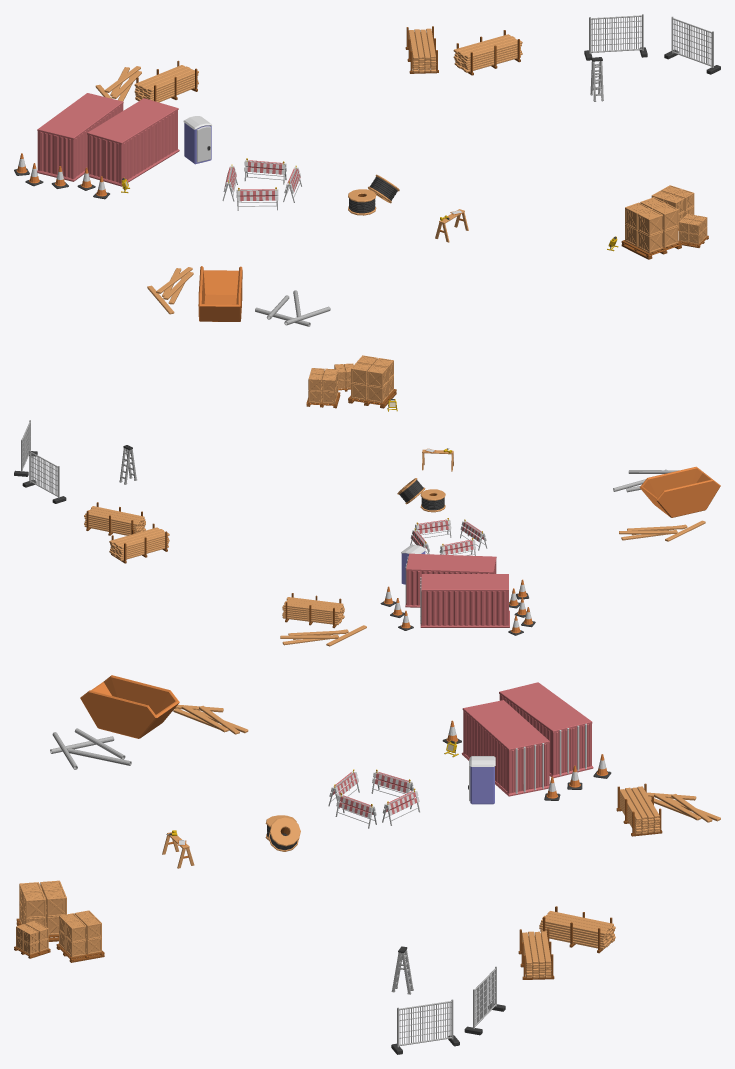
File: Assets.glb
3 renders of one model, top to bottom at view 1: azimuth 30°, elevation 25°; view 2: azimuth 150°, elevation 25°; view 3: azimuth 270°, elevation 25°, orthographic. The views are drawn at different scales.
Visible parts, largest first — view 1: asset_anchored, Contanier, Contanier.001, Toilet A.001, Barrier C.004, Spool B.001, Barrier C.002; view 2: asset_anchored, Contanier.001, Contanier, Spool B.001, Barrier C.003; view 3: asset_anchored, Contanier, Contanier.001, Toilet A.001, Spool B.002, Barrier C.003, Barrier C.001, Barrier C.004.
Boxes of the visible parts, x1,y1,x2,y2 form: asset_anchored: (95,14,720,326); Contanier: (87,98,179,186); Contanier.001: (37,93,123,181); Toilet A.001: (183,116,211,164); Barrier C.004: (244,158,286,184); Spool B.001: (348,189,376,215); Barrier C.002: (236,187,278,210); asset_anchored: (14,355,720,646); Contanier.001: (420,574,509,627); Contanier: (405,553,496,607); Spool B.001: (420,489,445,512); Barrier C.003: (414,518,451,538); asset_anchored: (14,675,720,1054); Contanier: (461,700,549,796); Contanier.001: (499,682,593,778); Toilet A.001: (468,756,495,804); Spool B.002: (268,817,300,851); Barrier C.003: (335,793,376,828); Barrier C.001: (371,769,414,798); Barrier C.004: (382,788,419,825).
Bounding box in the file's own units: 13.22 × 0.858 × 11.28.
